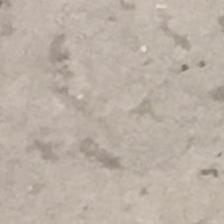Non_Crack: (18, 19, 214, 156)
